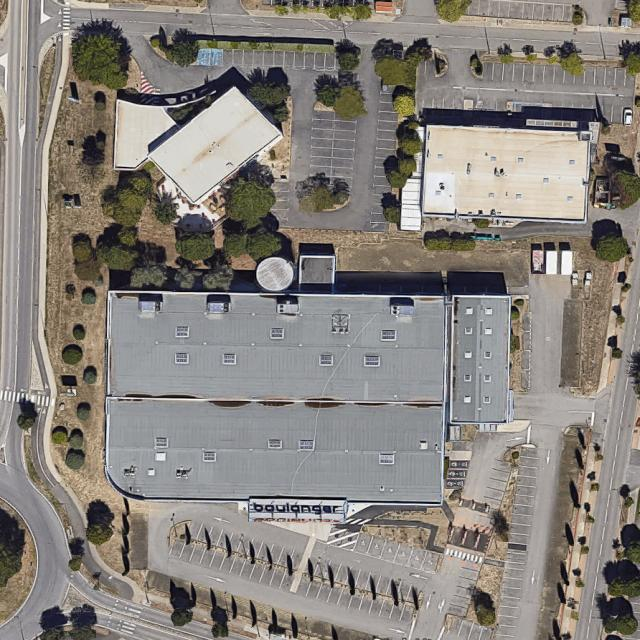immeuble: (106, 292, 444, 403), (105, 398, 444, 507), (146, 81, 283, 209), (420, 124, 590, 223), (450, 296, 508, 423)
